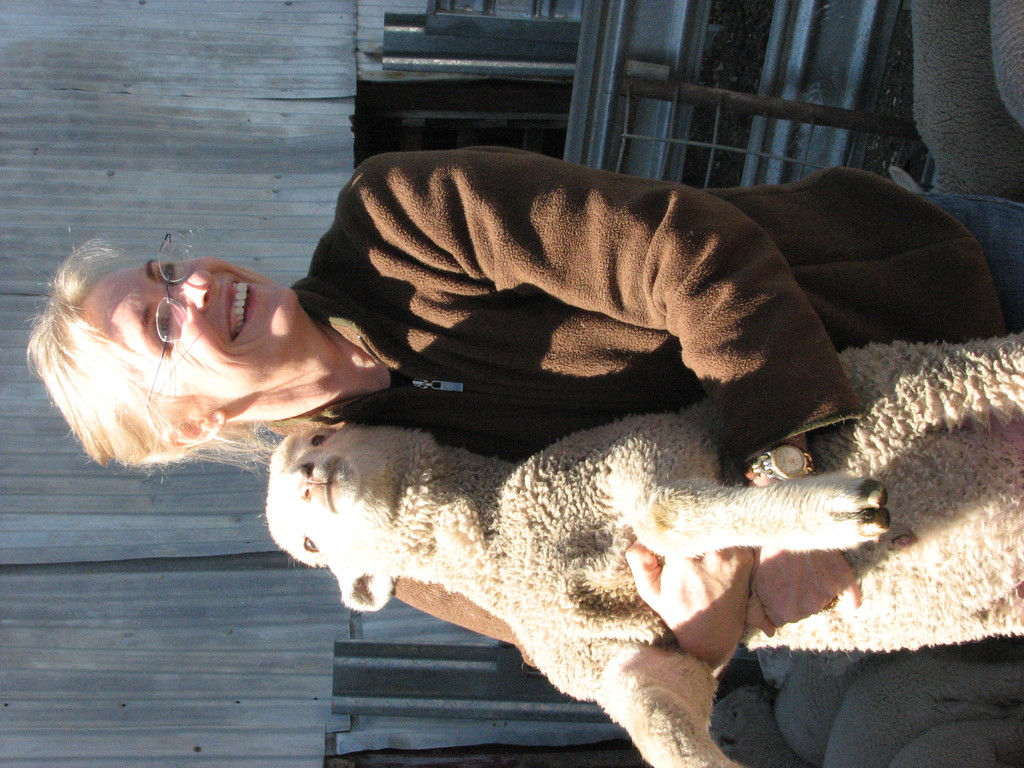Human_hand: (623, 543, 756, 659), (746, 543, 862, 638)
